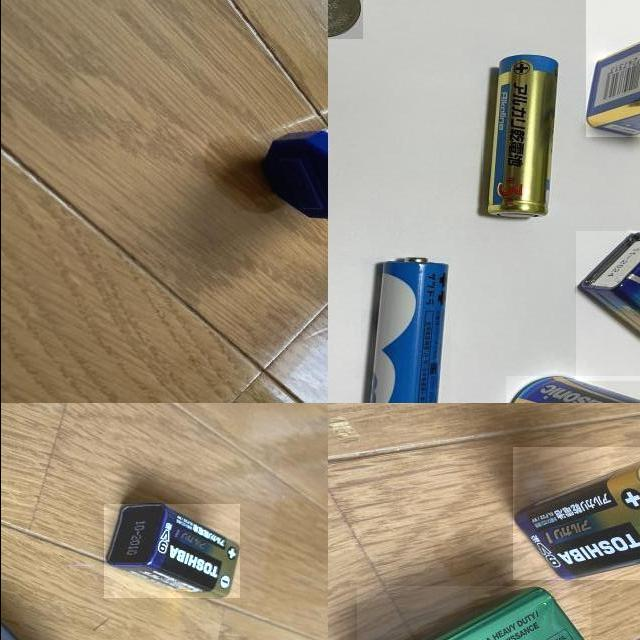9V: (512, 447, 640, 580), (102, 504, 238, 598), (357, 586, 590, 640), (575, 231, 640, 381), (585, 0, 640, 137)
